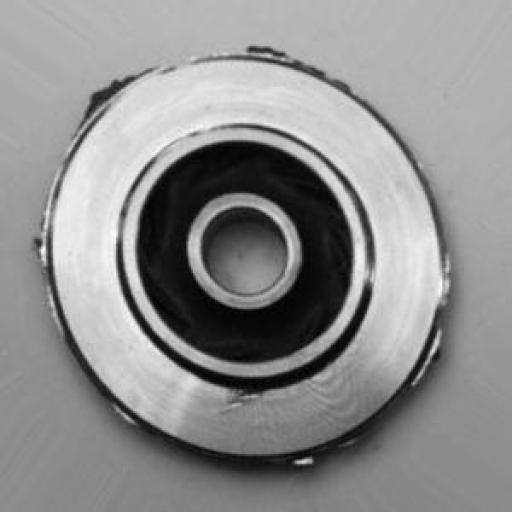defect: (28, 23, 483, 483)
